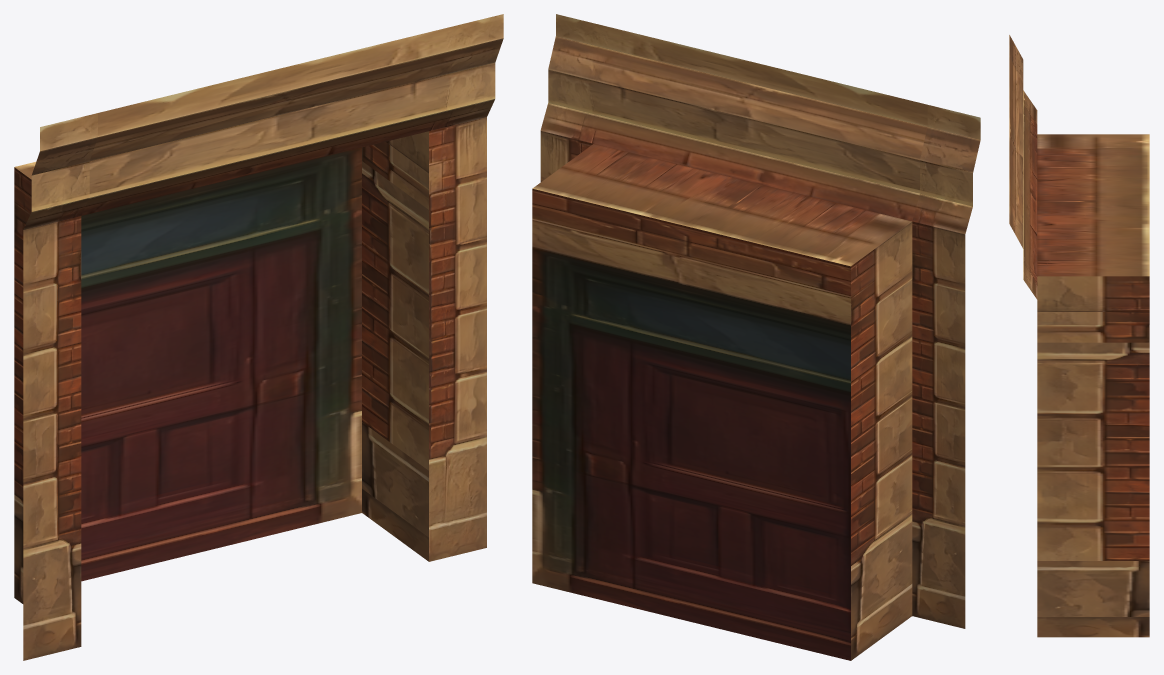
File: BRK_G_Entry4.fbx
3 views of the same model, side by side, from view 1: azimuth 30°, elevation 25°; view 2: azimuth 150°, elevation 25°; view 3: azimuth 270°, elevation 25° (orthographic). The views are drawn at different scales.
Parts seen in each view (by area): view 1: BRK_G_Entry4; view 2: BRK_G_Entry4; view 3: BRK_G_Entry4.
Boxes of the visible parts, <box> form: BRK_G_Entry4: <box>14,14,503,660</box>; BRK_G_Entry4: <box>532,14,980,660</box>; BRK_G_Entry4: <box>1009,35,1149,637</box>.
Size of the model in its own units: 4 by 1.25 by 4.5.
Materials: 1 (1 with a texture image).
